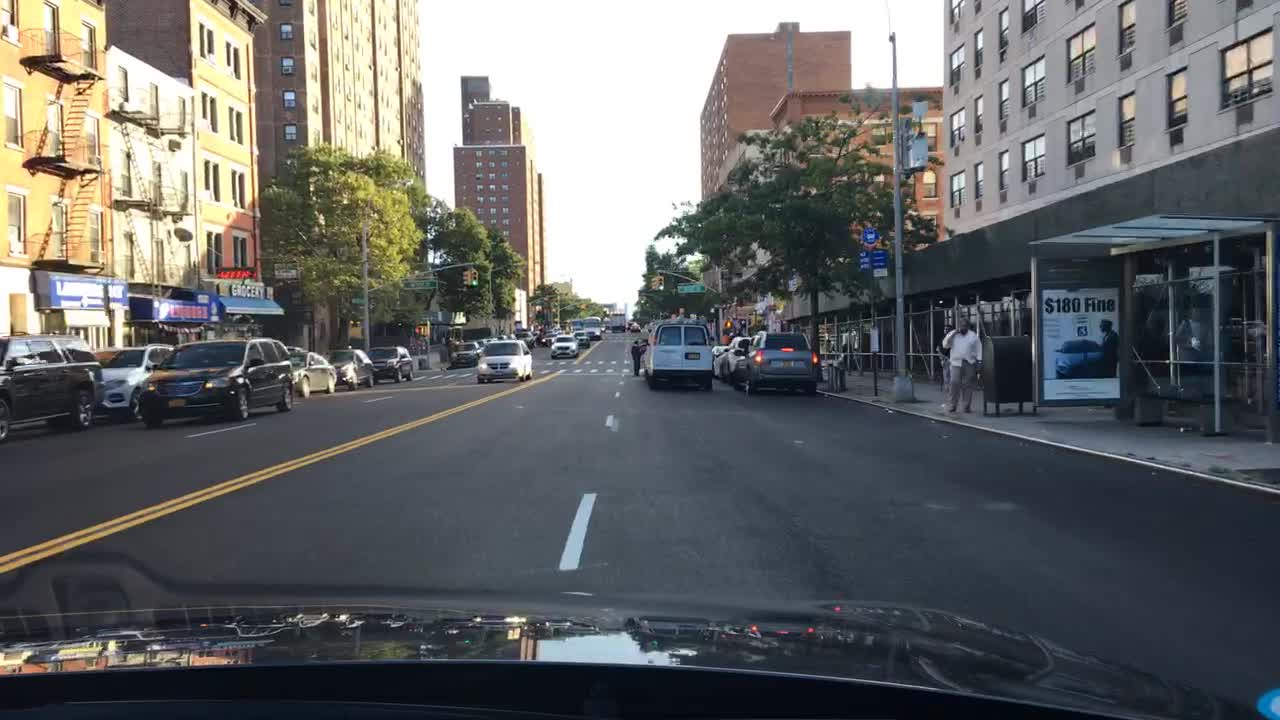bus: (582, 316, 604, 342)
car: (136, 334, 295, 423), (1, 333, 103, 444), (86, 344, 173, 424), (639, 319, 714, 392), (743, 329, 819, 397), (474, 338, 534, 384), (320, 347, 380, 389), (287, 351, 336, 397), (365, 346, 416, 381), (724, 336, 760, 385), (450, 343, 482, 366), (550, 333, 578, 359), (709, 344, 727, 378), (515, 331, 537, 347), (573, 331, 592, 349), (532, 330, 545, 345), (286, 344, 304, 354), (472, 339, 488, 350), (627, 323, 642, 331), (498, 334, 516, 340), (482, 338, 498, 344)
person: (940, 317, 984, 413), (629, 339, 644, 374), (540, 327, 547, 345)
traffic light: (461, 270, 472, 287), (414, 322, 427, 336), (471, 270, 479, 286), (657, 276, 665, 290), (648, 275, 654, 289)
traffic sign: (855, 223, 878, 245), (870, 249, 887, 277), (399, 279, 439, 289), (854, 248, 869, 272), (675, 282, 705, 293), (350, 286, 365, 293), (350, 297, 364, 304), (767, 303, 776, 311)
truck: (609, 312, 626, 332)
